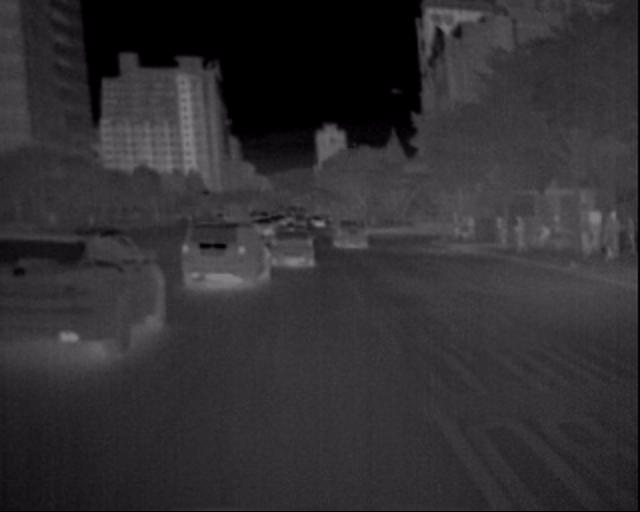person: (596, 206, 625, 262), (578, 205, 604, 263), (509, 210, 534, 255), (548, 205, 570, 255), (493, 208, 513, 249)
